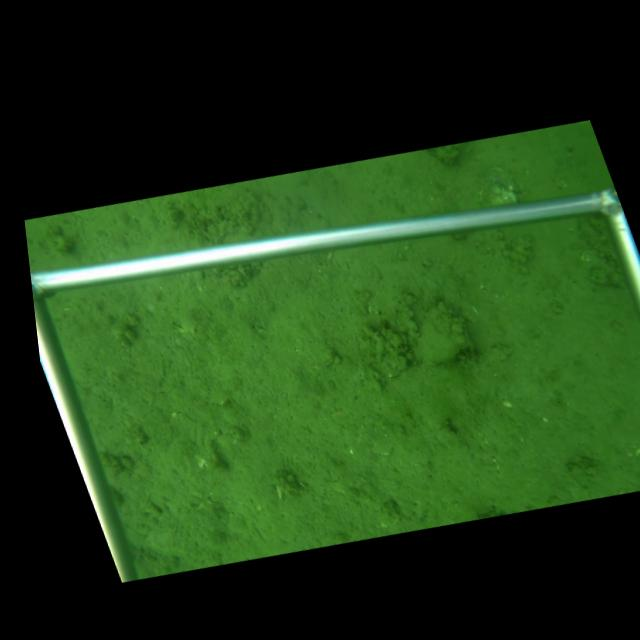Oyster-Indeterminate: (414, 301, 476, 366)
